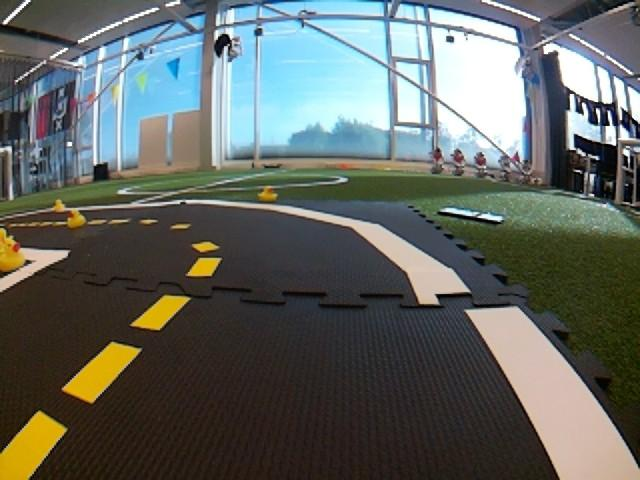Duckies: (0, 228, 23, 272), (65, 210, 84, 227), (258, 186, 277, 202), (53, 200, 66, 211)
